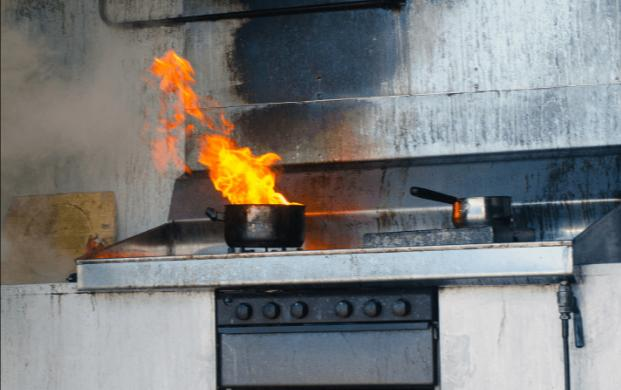fire: (125, 40, 322, 273)
